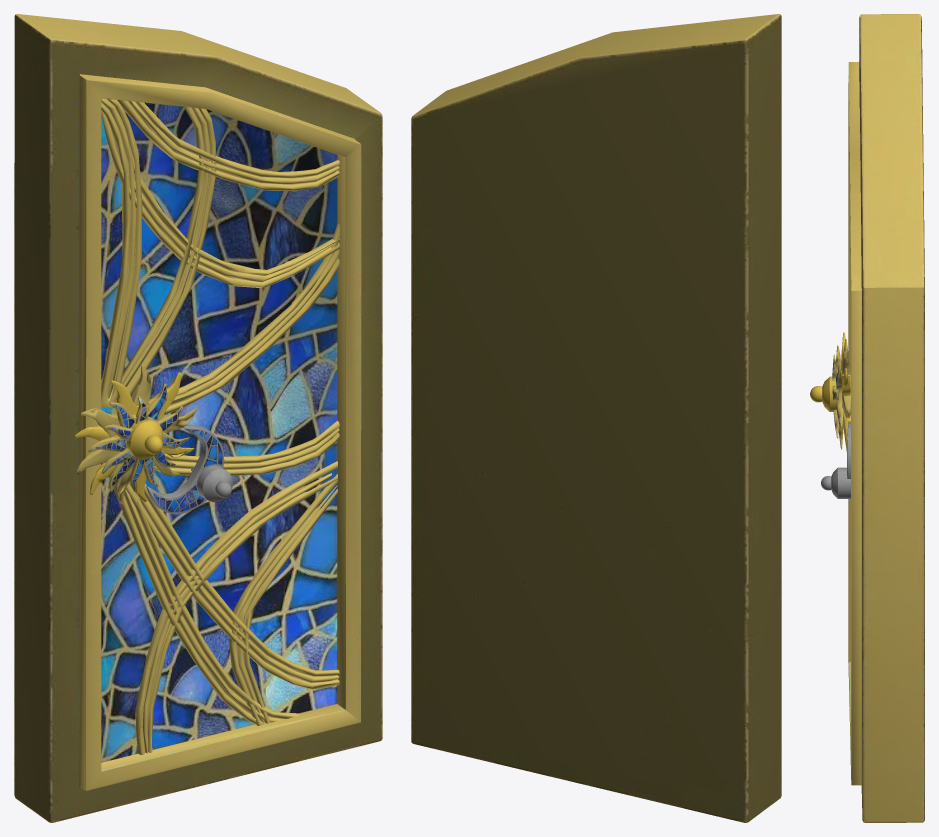
Rendered from doorRight_lowPolyCompressed.glb.
3 views of the same model, side by side, from view 1: azimuth 30°, elevation 25°; view 2: azimuth 150°, elevation 25°; view 3: azimuth 270°, elevation 25° (orthographic). The views are drawn at different scales.
Visible parts, largest first — view 1: polySurface15.005; view 2: polySurface15.005; view 3: polySurface15.005.
Boxes of the visible parts, x1,y1,x2,y2 form: polySurface15.005: [14, 14, 382, 822]; polySurface15.005: [411, 14, 781, 822]; polySurface15.005: [810, 14, 924, 822].
Size of the model in its own units: 0.1101 by 0.2457 by 0.0382.
Materials: 4 (4 with a texture image).
